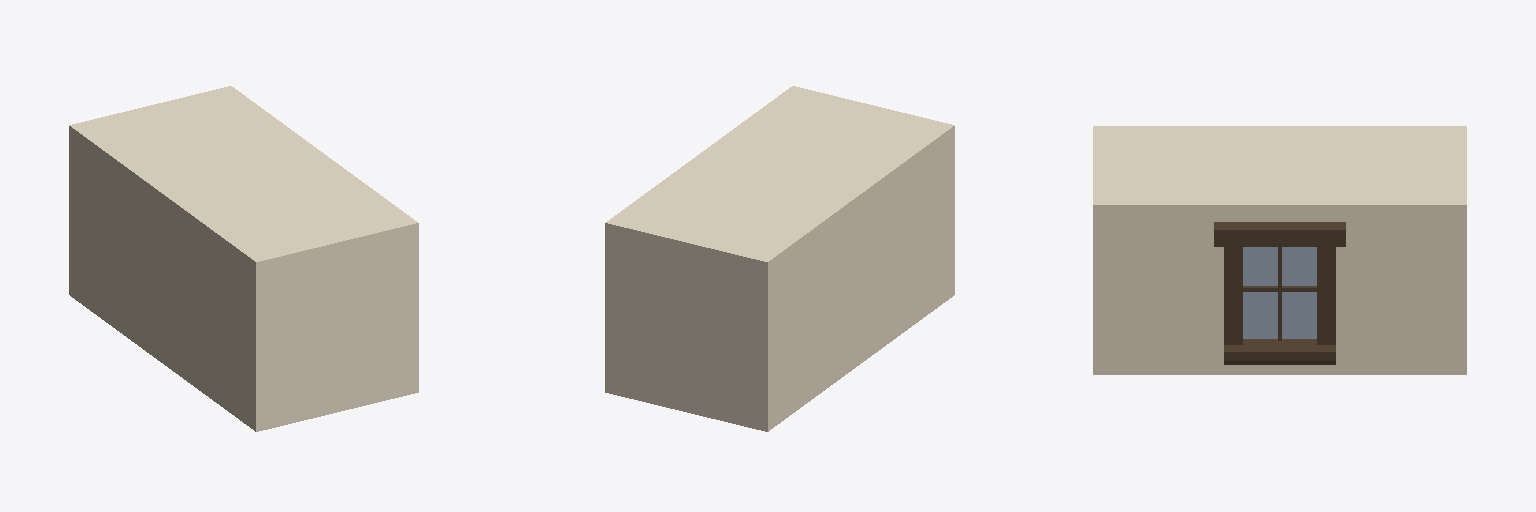
The model's file is Stucco_Window_Single_Wide.obj.
3 renders of one model, left to right at view 1: azimuth 30°, elevation 25°; view 2: azimuth 150°, elevation 25°; view 3: azimuth 270°, elevation 25°, orthographic.
Visible parts, largest first — view 1: object1; view 2: object1; view 3: object1, object3, object2.
Part boxes in pixels (left/top/right/bottom): object1: left=69, top=86, right=418, bottom=431; object1: left=605, top=86, right=954, bottom=431; object1: left=1093, top=126, right=1466, bottom=374; object3: left=1214, top=222, right=1345, bottom=364; object2: left=1243, top=247, right=1316, bottom=340.
Size of the model in its own units: 1.15 by 1 by 2.